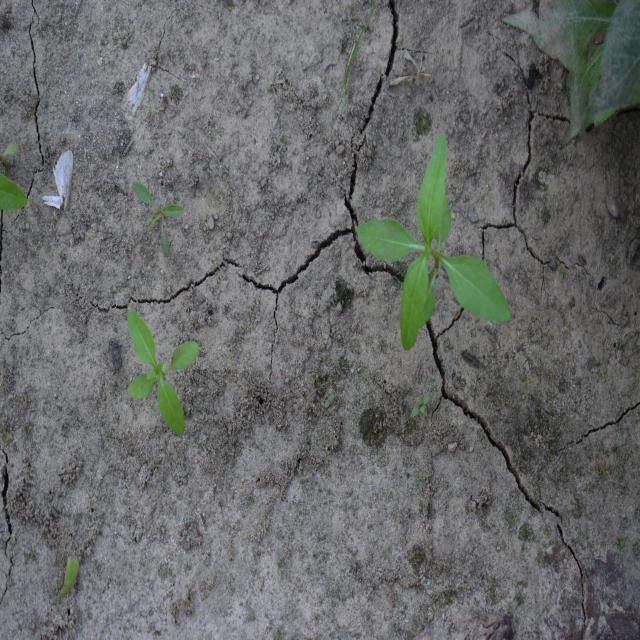Eclipta: (356, 131, 512, 353), (126, 307, 200, 438)
Waterhemp: (130, 180, 184, 259)
